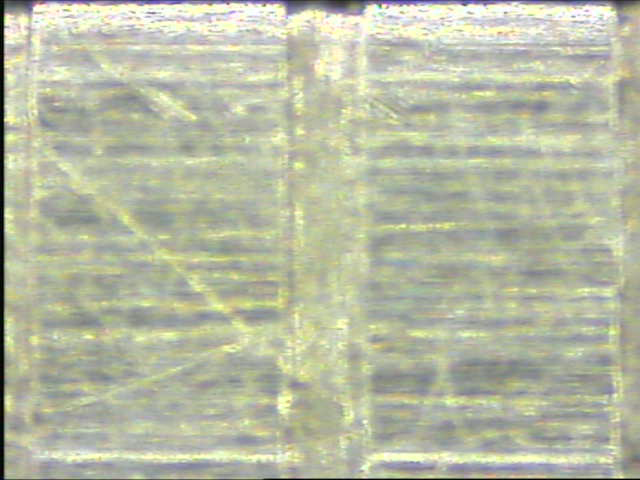line: (278, 3, 370, 473)
